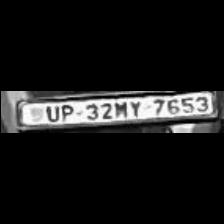2: (96, 100, 112, 118)
3: (77, 101, 99, 119), (192, 93, 210, 111)
5: (180, 93, 194, 113)
6: (166, 96, 178, 114)
7: (146, 96, 164, 114)
M: (109, 99, 127, 117)
P: (54, 103, 76, 120)
U: (40, 103, 56, 121)
Y: (130, 98, 140, 116)
